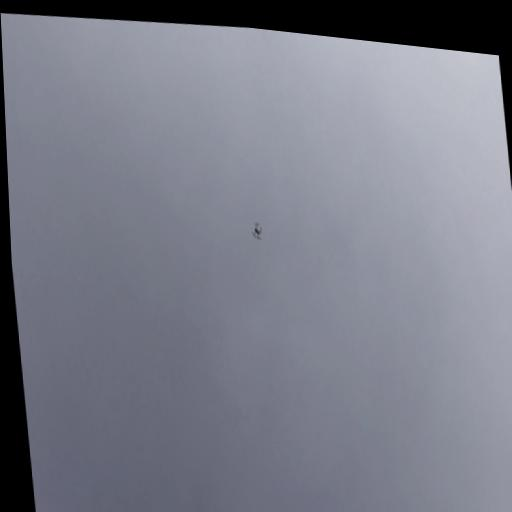drones: (250, 221, 265, 243)
